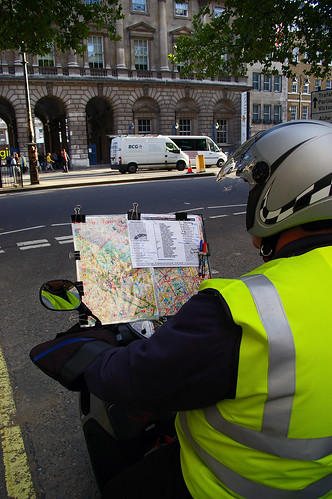helmet: (237, 105, 324, 240)
